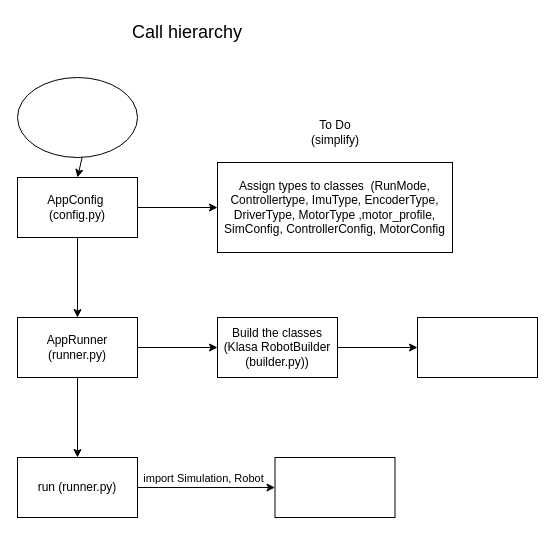
Some shapes in this 555 by 535 pixel diagram are drawn without their labels. The shapes that lost their labels are listed below. From the top down, each one's centre as x and y in pixels, then its label:
At (x=77, y=117): "Start".
At (x=477, y=347): "Save the config with RobotConfig (config.py)".
